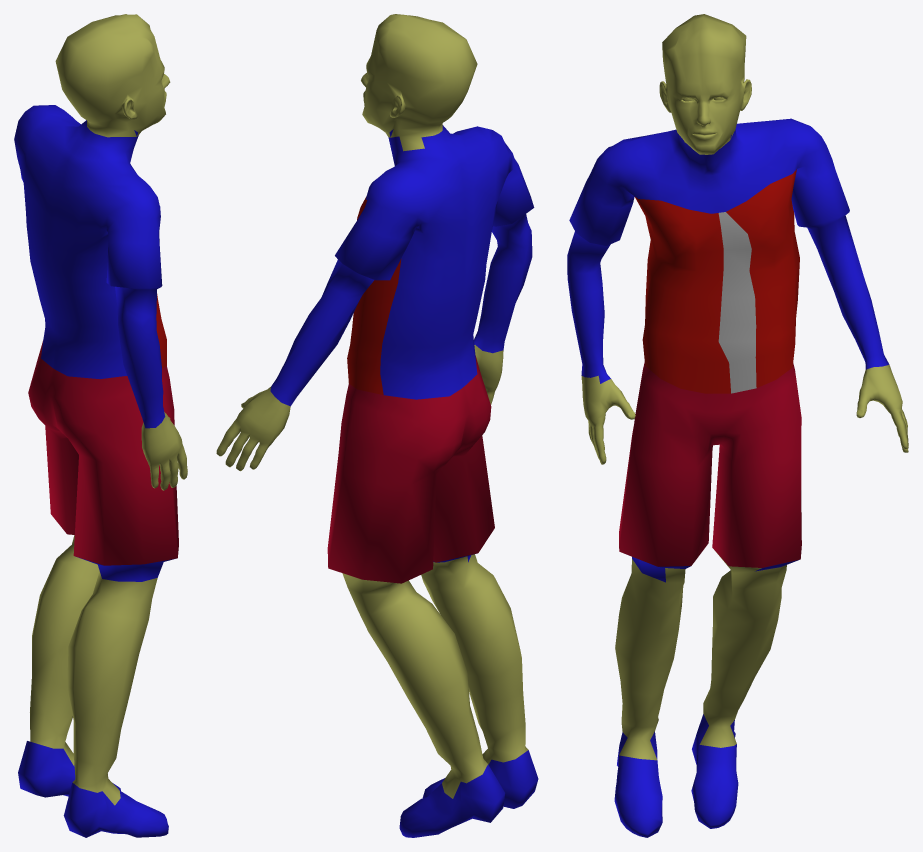
Rendered from player_000008.obj.
3 views of the same model, side by side, from view 1: azimuth 30°, elevation 25°; view 2: azimuth 150°, elevation 25°; view 3: azimuth 270°, elevation 25° (orthographic). The views are drawn at different scales.
Visible parts, largest first — view 1: soccerplayer_mesh; view 2: soccerplayer_mesh; view 3: soccerplayer_mesh.
Boxes of the visible parts, x1,y1,x2,y2 form: soccerplayer_mesh: [14, 14, 187, 837]; soccerplayer_mesh: [216, 14, 538, 837]; soccerplayer_mesh: [567, 14, 908, 837].
Size of the model in its own units: 1.31 by 5.47 by 2.1.
